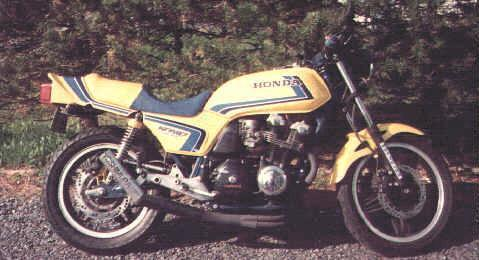motorcycle: (18, 7, 463, 260)
